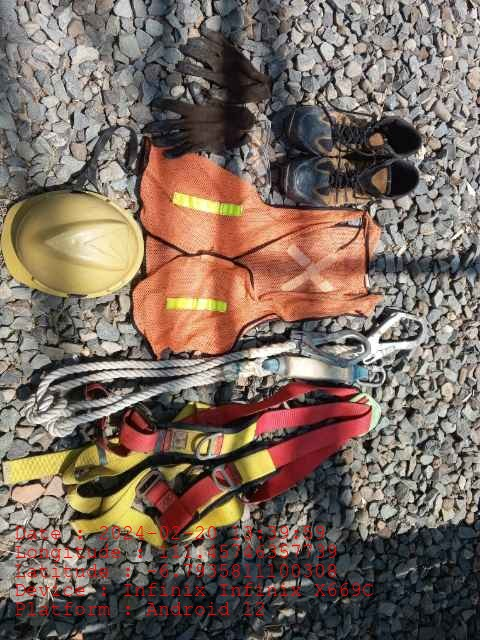HELM: (2, 188, 144, 299)
ROMPI: (136, 202, 373, 326)
SARUNG_TANGAN: (172, 25, 273, 102), (144, 97, 254, 157)
SEPATU: (282, 107, 420, 204)
TAMBANG_SLING: (22, 321, 426, 422)
